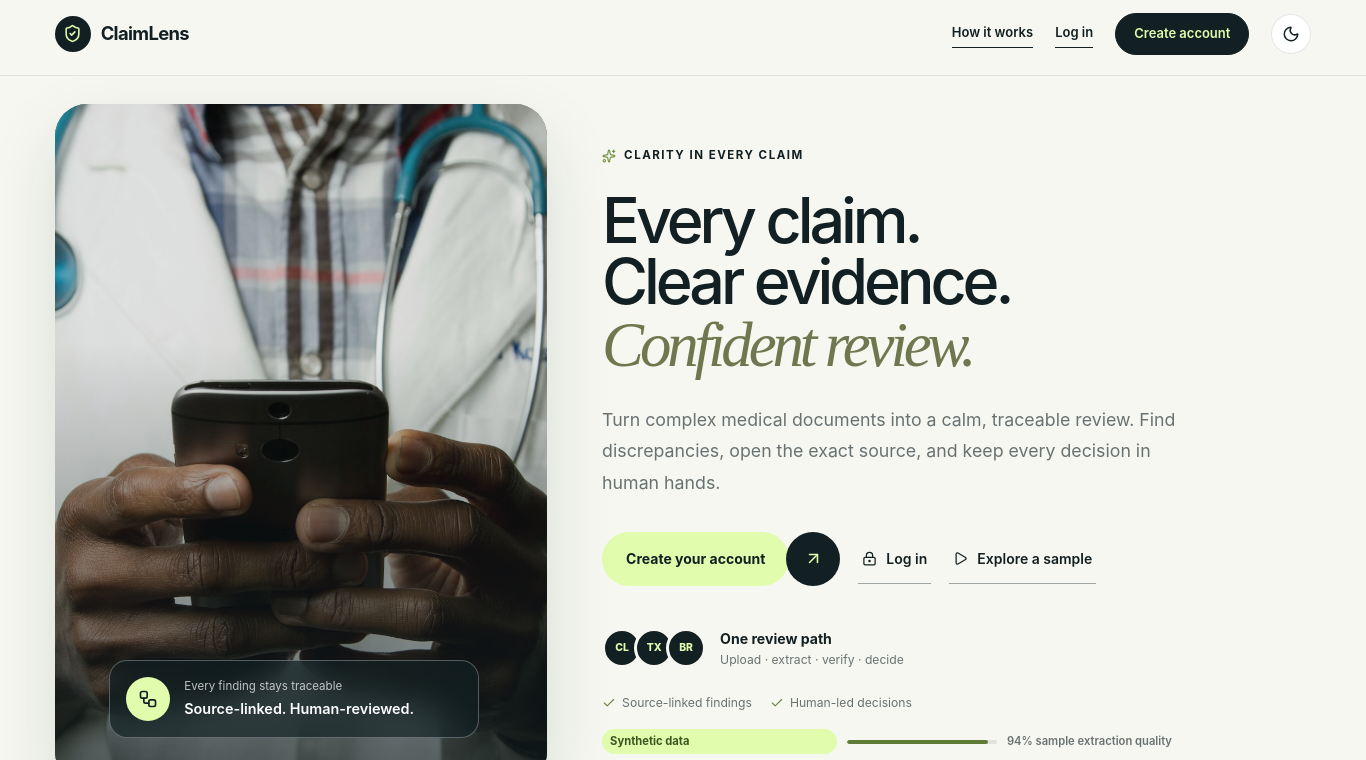
Test: ClaimLens opening hero › opens and closes an accessible sample with explicit human-review boundaries
Step 1. Click the button "Explore a sample" → x=1023, y=559, box x1=949 y1=534 x2=1096 y2=584
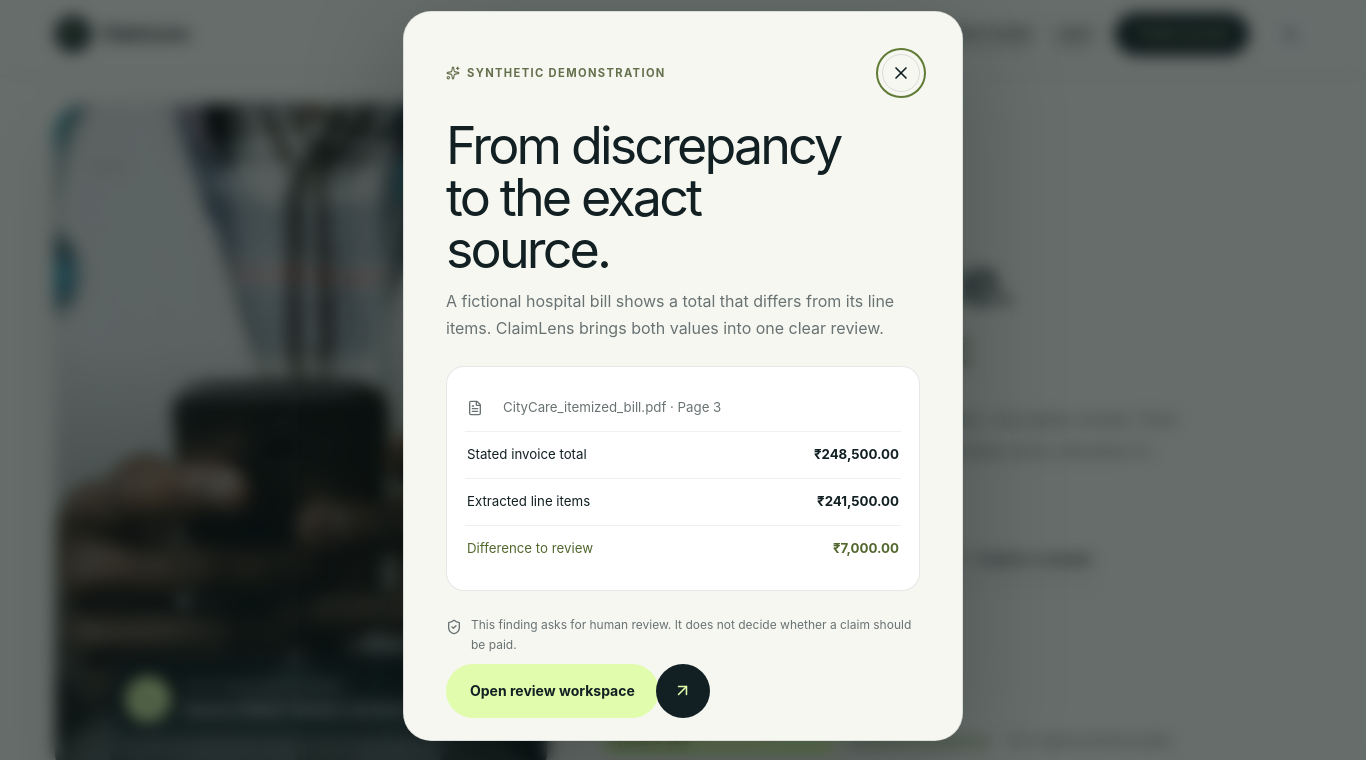
Expected: the text "₹7,000.00" is shown, x1=833 y1=539 x2=899 y2=559
Expected: the text "does not decide whether a claim should be paid" is shown, x1=471 y1=617 x2=911 y2=652
Step 2. Click the button named "Close sample preview" → x=901, y=73, box x1=882 y1=54 x2=920 y2=92
(page scrolled)
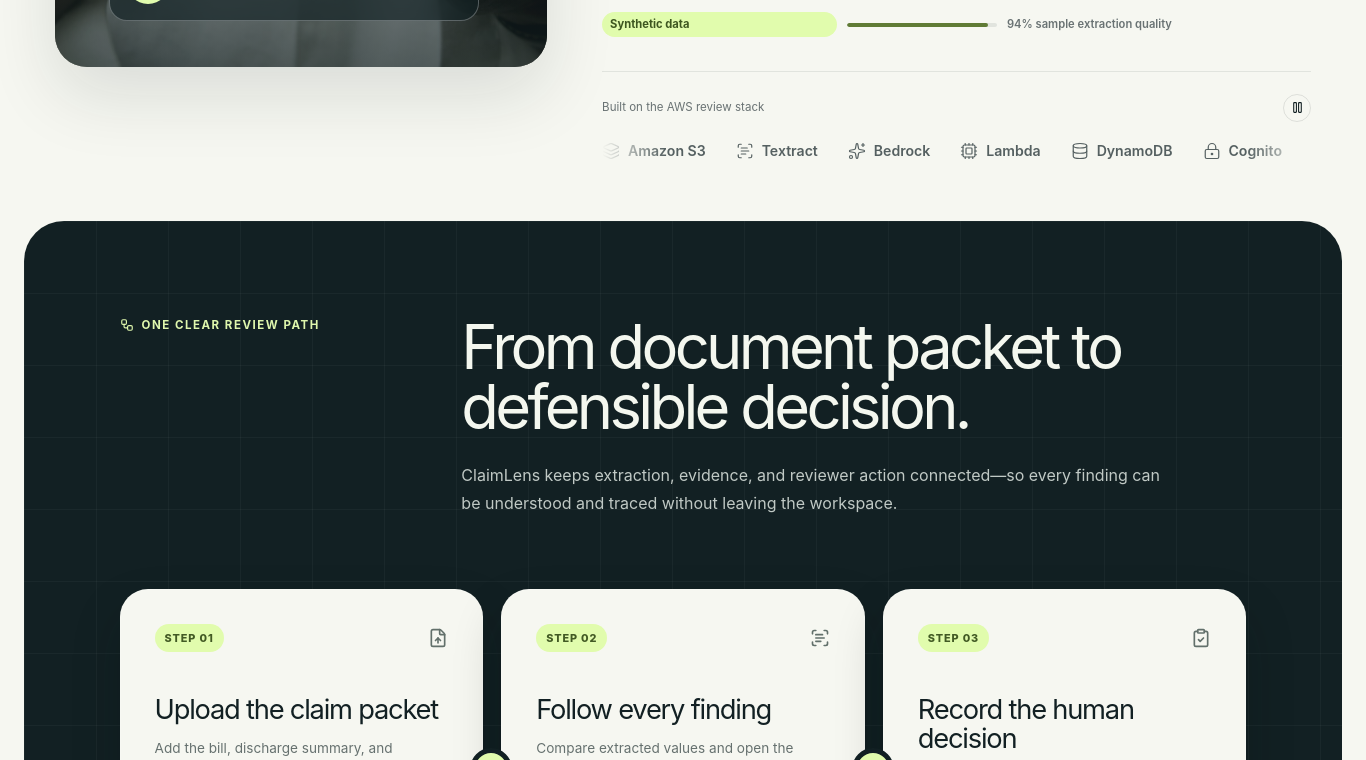
Expected: the heading "From document packet to defensible decision." is shown, x1=461 y1=309 x2=1120 y2=444
Expected: the dialog is gone
